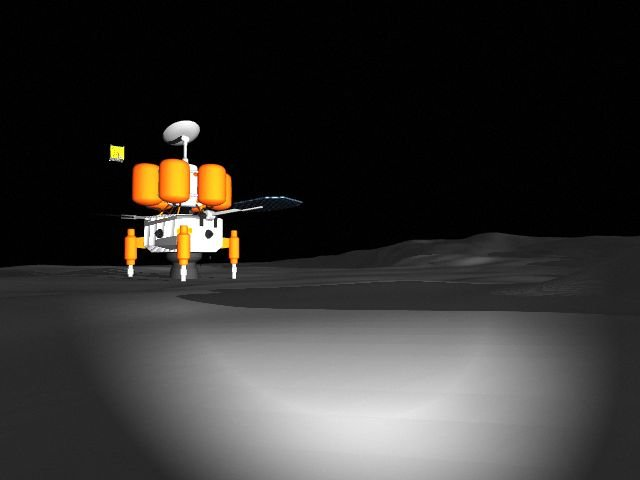cubesat: (100, 142, 127, 163)
